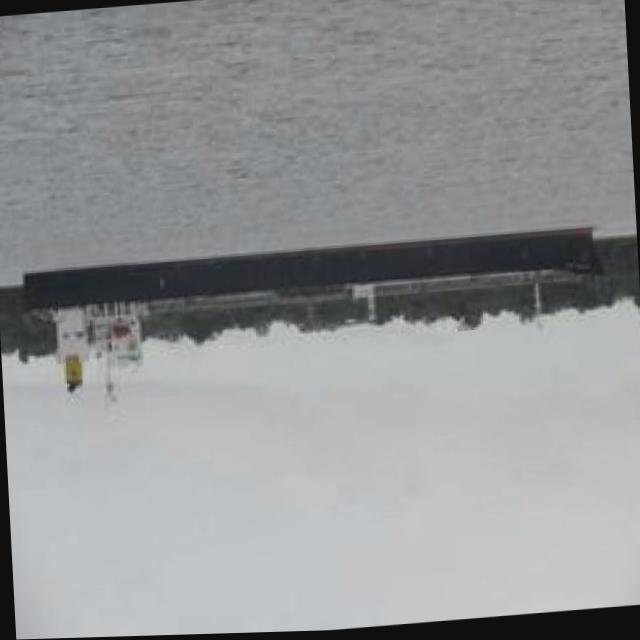ship2: (23, 230, 606, 409)
